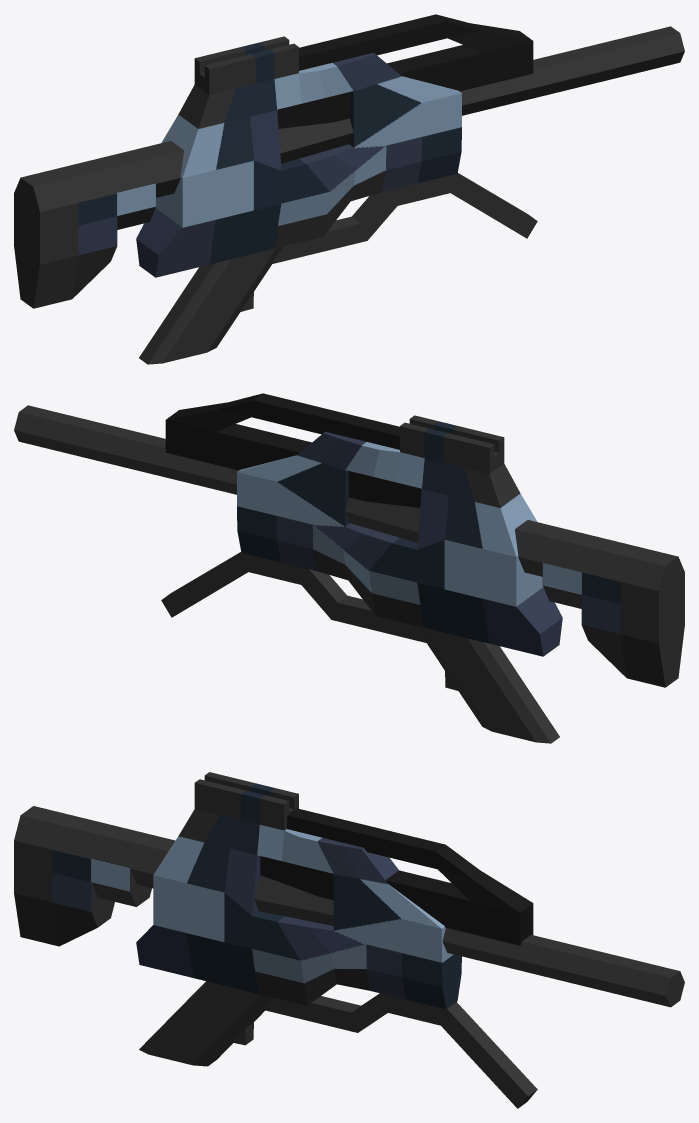
File: 大雪狐.fbx
3 renders of one model, top to bottom at view 1: azimuth 30°, elevation 25°; view 2: azimuth 150°, elevation 25°; view 3: azimuth 330°, elevation 25°, orthographic.
Parts seen in each view (by area): view 1: Mesh; view 2: Mesh; view 3: Mesh.
Boxes of the visible parts, box(x1,y1,x2,y2) form: Mesh: box(14, 14, 684, 364); Mesh: box(14, 393, 684, 743); Mesh: box(14, 772, 684, 1108).
Bounding box in the file's own units: 375 × 156 × 29.39.
